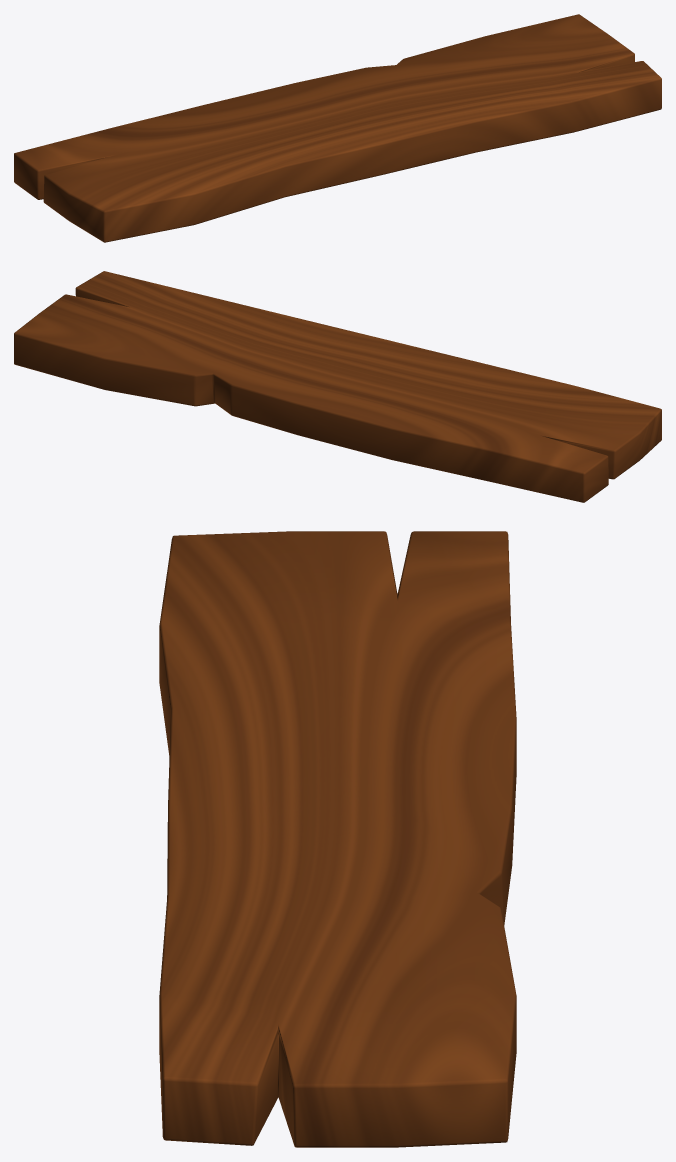
File: Wood Plank 1.fbx
The picture shows the model from 3 angles, top to bottom: view 1: azimuth 30°, elevation 25°; view 2: azimuth 150°, elevation 25°; view 3: azimuth 270°, elevation 25°; orthographic projection. The views are drawn at different scales.
Visible parts, largest first — view 1: Wood Plank 1.001; view 2: Wood Plank 1.001; view 3: Wood Plank 1.001.
Boxes of the visible parts, x1,y1,x2,y2 form: Wood Plank 1.001: (14, 14, 661, 242); Wood Plank 1.001: (14, 271, 661, 502); Wood Plank 1.001: (159, 531, 516, 1147).
Bounding box in the file's own units: 180 × 10.6 × 48.96.
1 material, 1 textured.
